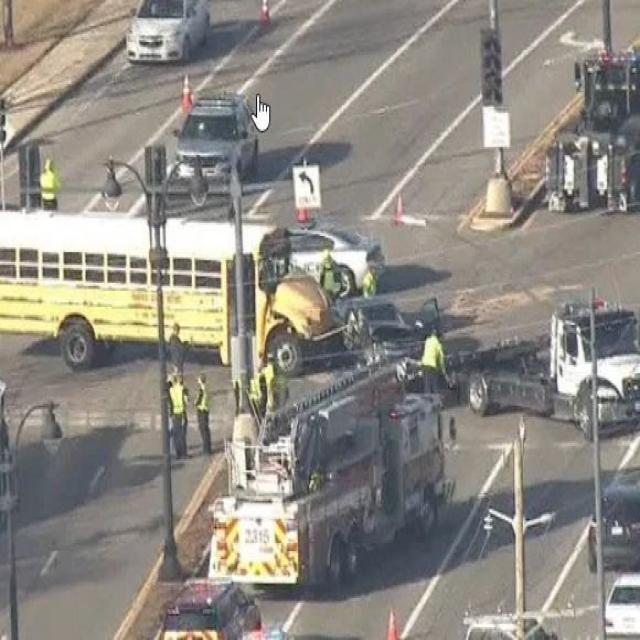traffic_incident: (329, 286, 448, 385)
